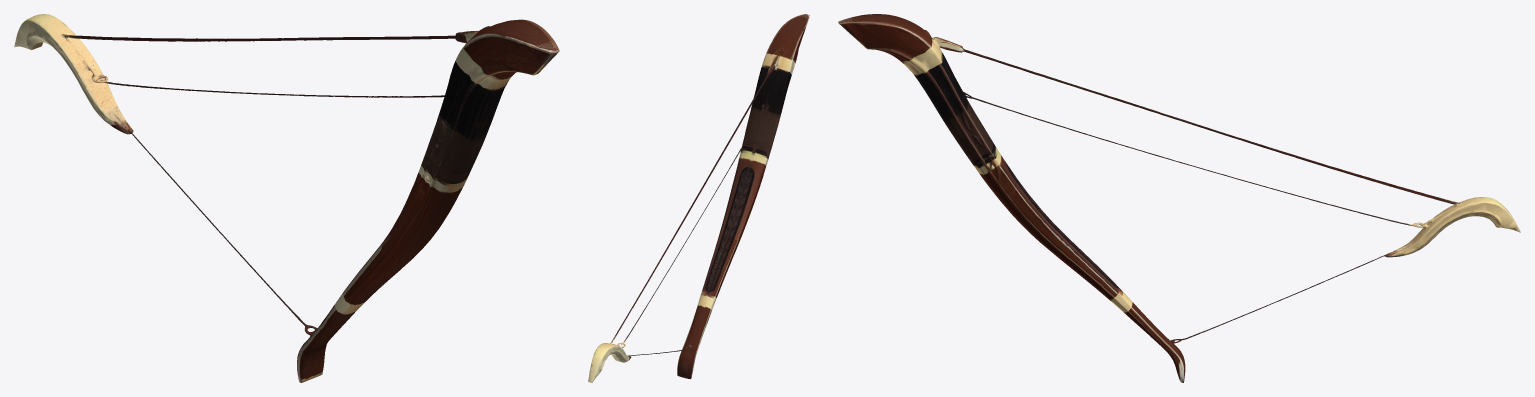
File: bow.glb
3 renders of one model, left to right at view 1: azimuth 30°, elevation 25°; view 2: azimuth 150°, elevation 25°; view 3: azimuth 270°, elevation 25°, orthographic. The views are drawn at different scales.
Visible parts, largest first — view 1: mesh_node; view 2: mesh_node; view 3: mesh_node.
Part boxes in pixels (box(x1,y1,x2,y2)): mesh_node: box(14, 14, 559, 382); mesh_node: box(588, 14, 809, 382); mesh_node: box(838, 14, 1520, 382).
Size of the model in its own units: 14.1 by 72.87 by 124.
1 material, 1 textured.
